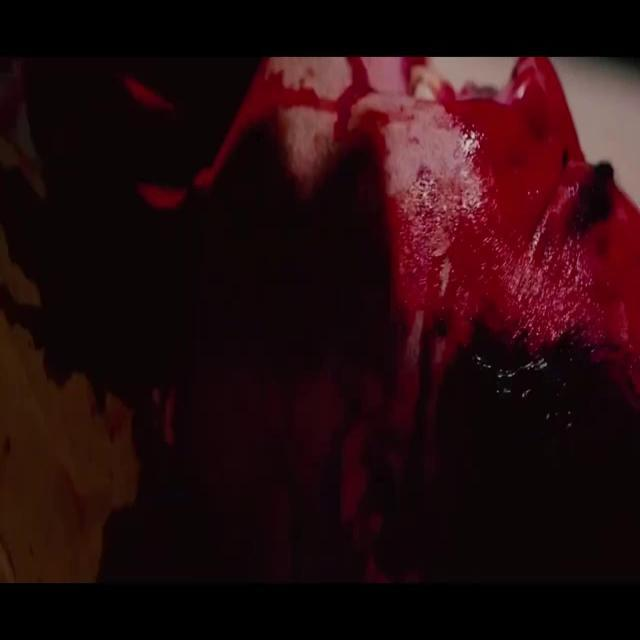flood: (413, 56, 640, 386), (131, 68, 415, 224), (304, 346, 438, 546)
